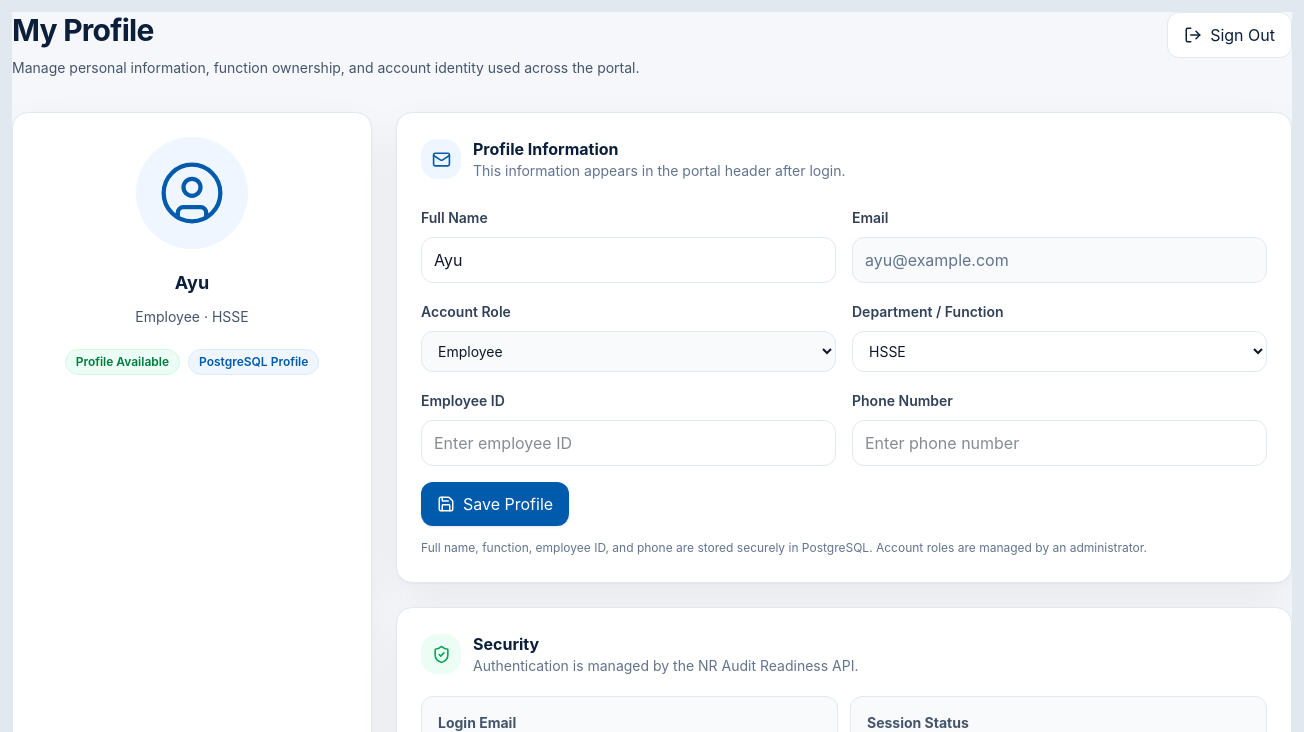
Test case: Profile › updates editable PostgreSQL profile fields and shows success
The image size is (1304, 732).
Replace the text in the field labelled "Full Name" with "Ayu Updated" at (628, 260), box [421,237,836,283]
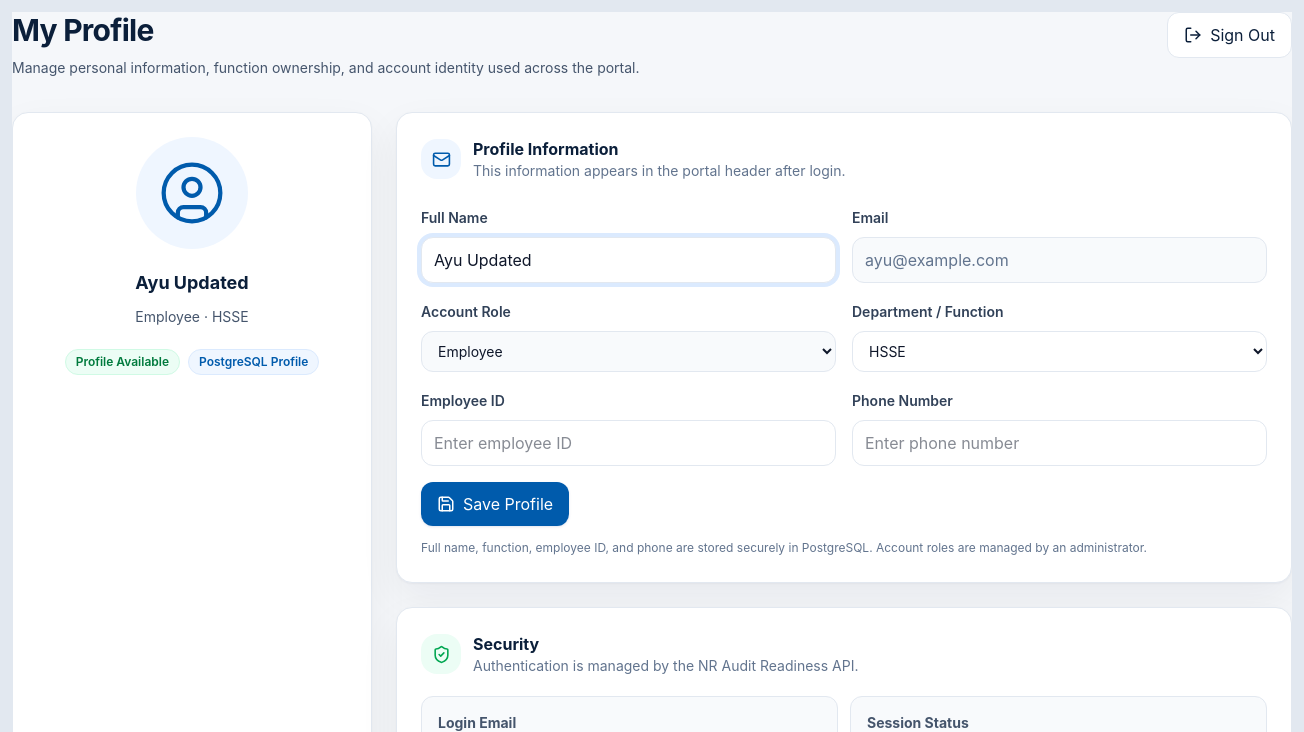
Select "SPI" in the dropdown labelled "Department / Function" at (1060, 352), box [852,331,1267,372]
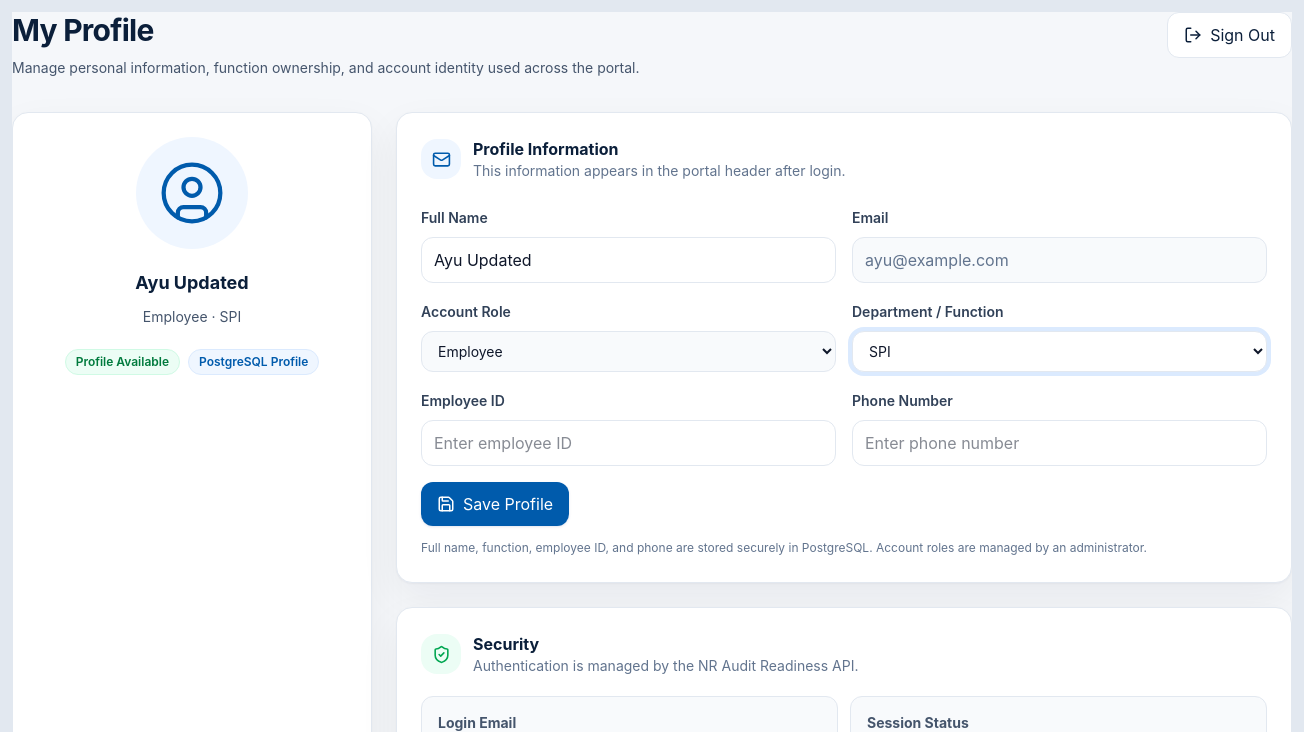
Type "EMP-1" into the field labelled "Employee ID".
click(628, 443); type("EMP-1")  # box [421,420,836,466]
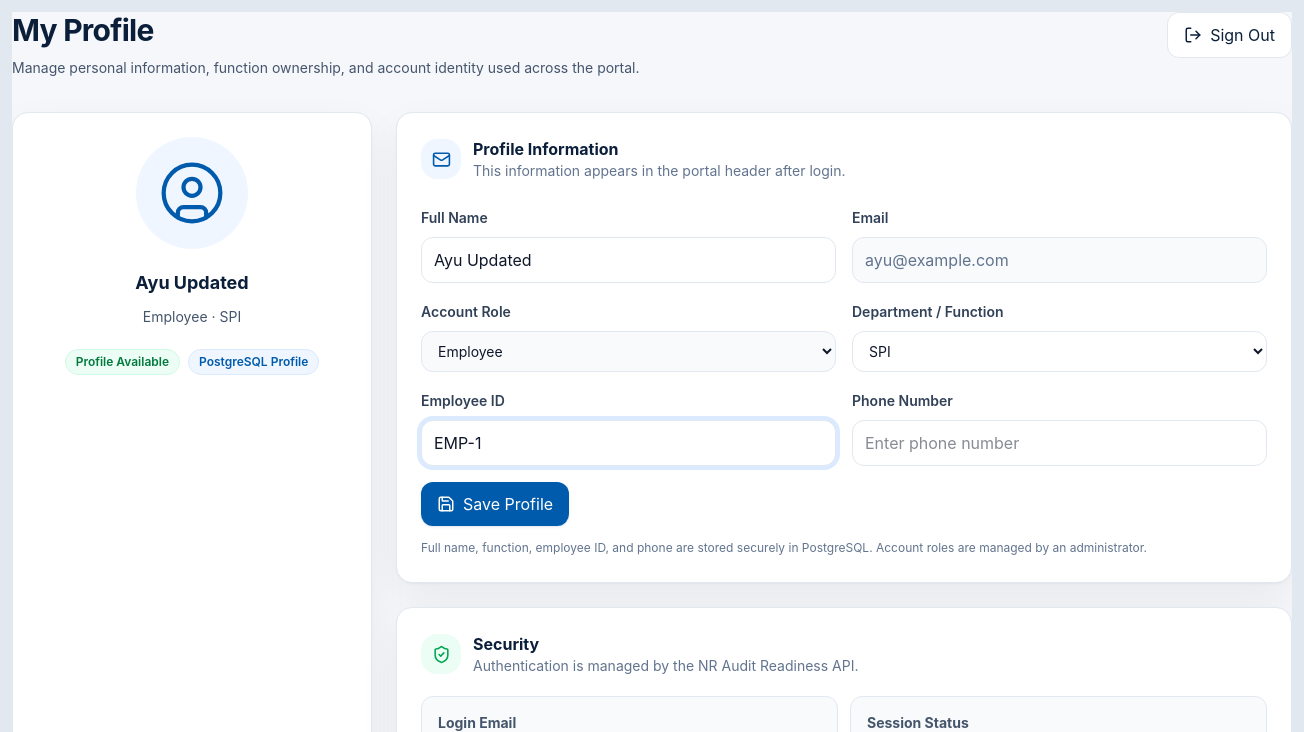
Type "0812" into the field labelled "Phone Number".
click(1060, 443); type("0812")  # box [852,420,1267,466]
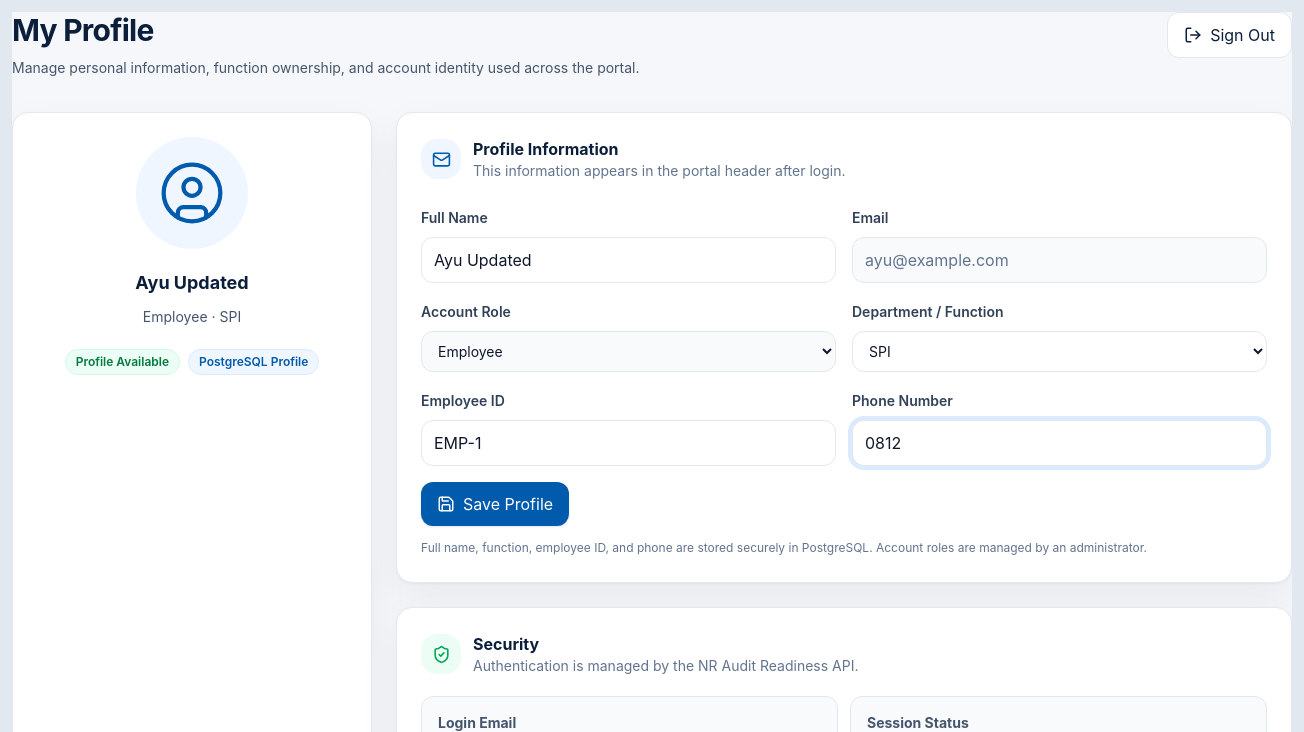
Click the button "Save Profile".
click(495, 504)  # box [421,482,569,526]
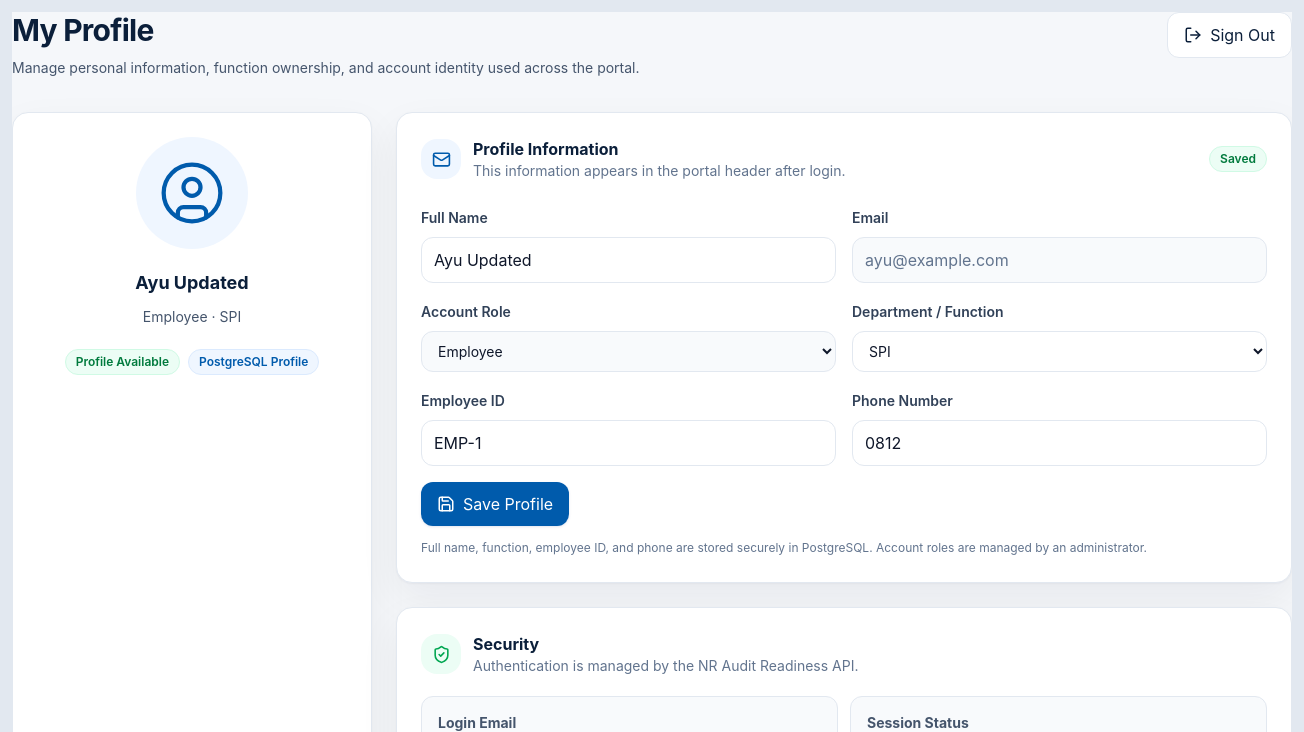
expect the text "Saved" is shown: met, box [1209,146,1267,172]
